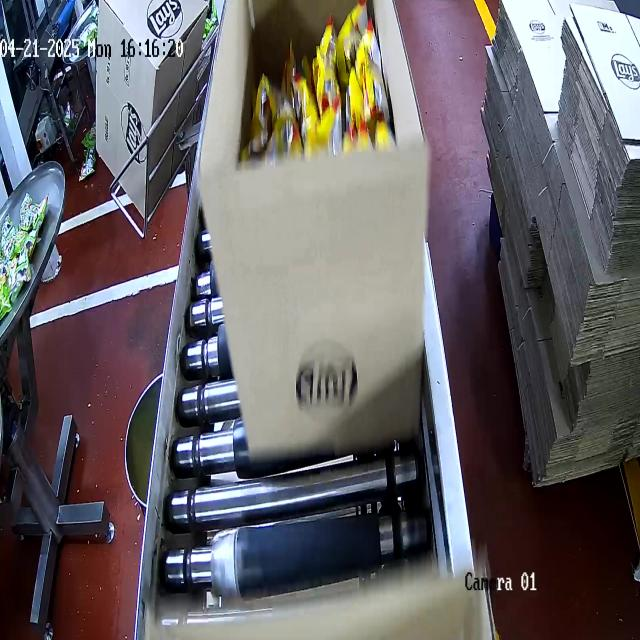SALTED: (245, 13, 400, 172)
